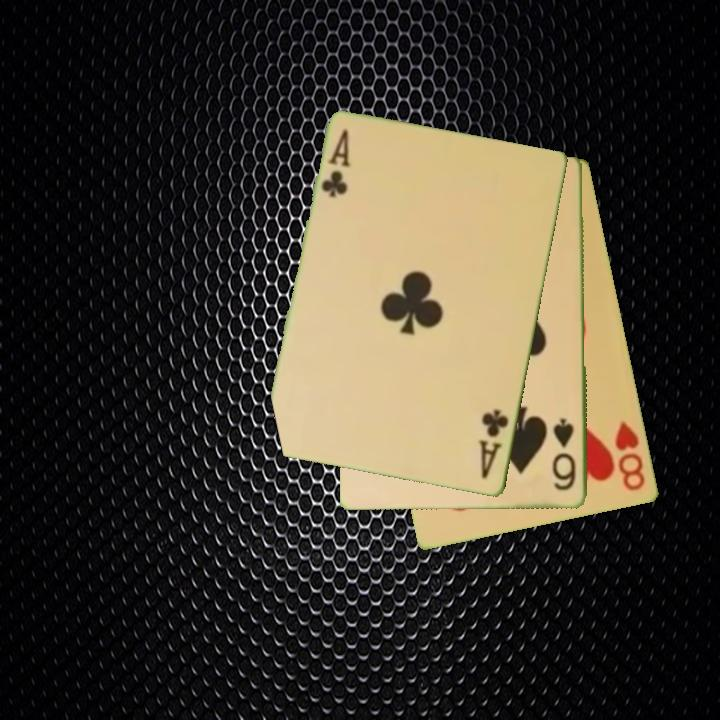6s: (550, 415, 579, 493)
8h: (612, 418, 649, 494)
Ac: (475, 406, 512, 483), (318, 126, 353, 201)
